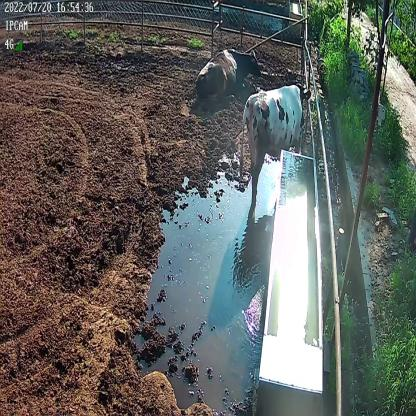cow: (241, 85, 315, 217), (198, 49, 263, 104)
